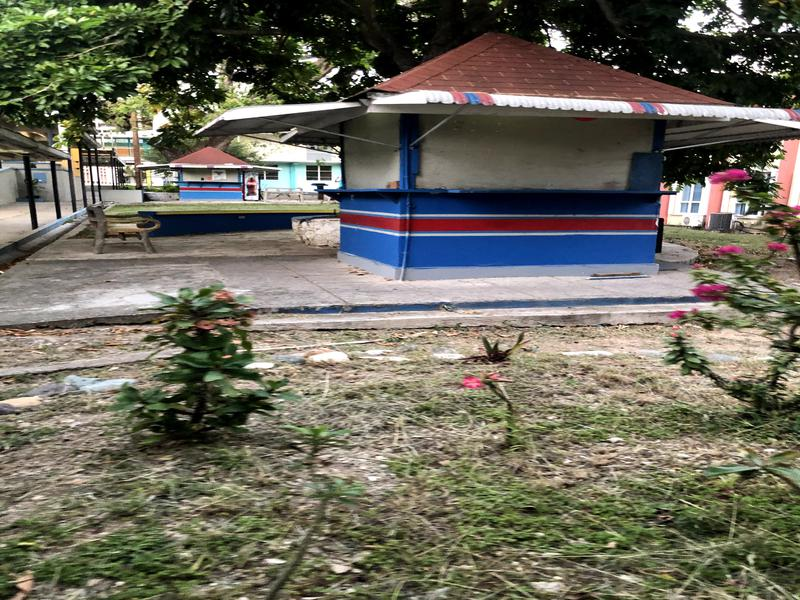18.0050609_-76.7496662_auntyjackie: (305, 1, 732, 295)
